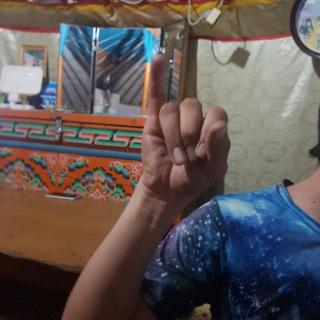MEEM: (136, 53, 235, 211)
